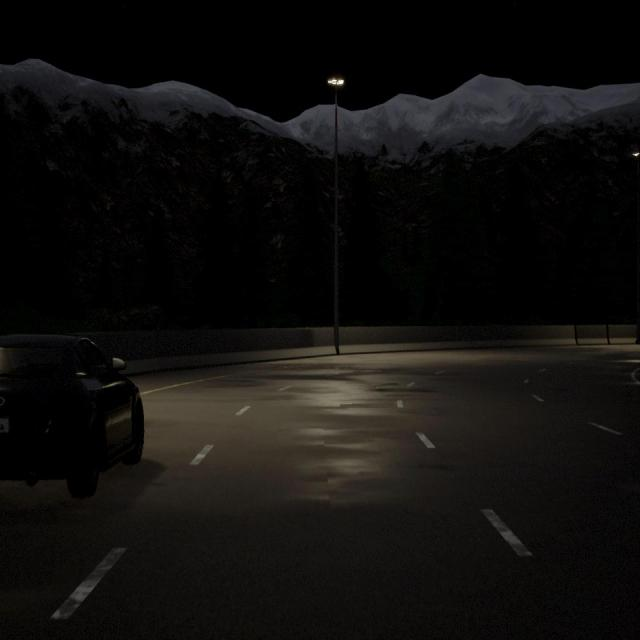Vehicle: (0, 335, 144, 497)
